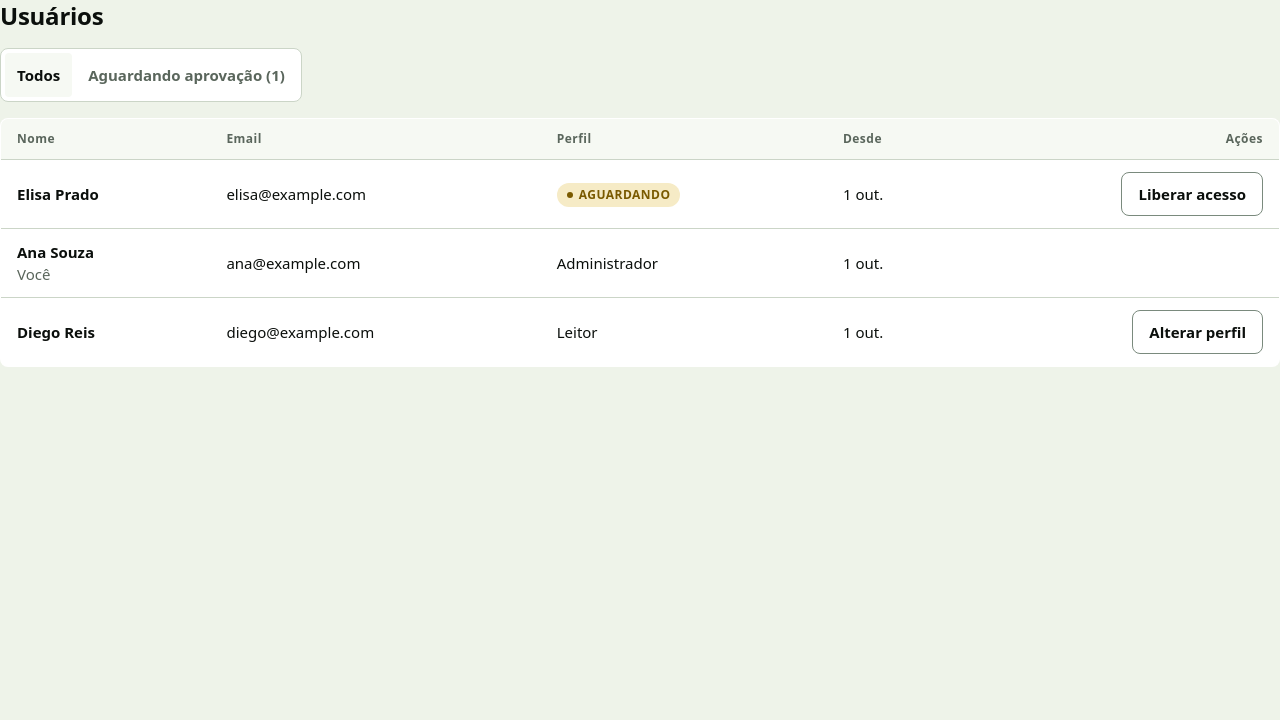
Scenario: ProfileDialog › describes the three profiles and keeps Salvar disabled until the choice changes
Click the button with aria-label "Alterar perfil de Diego Reis" at point(1198, 332), box [1132,310,1263,354]
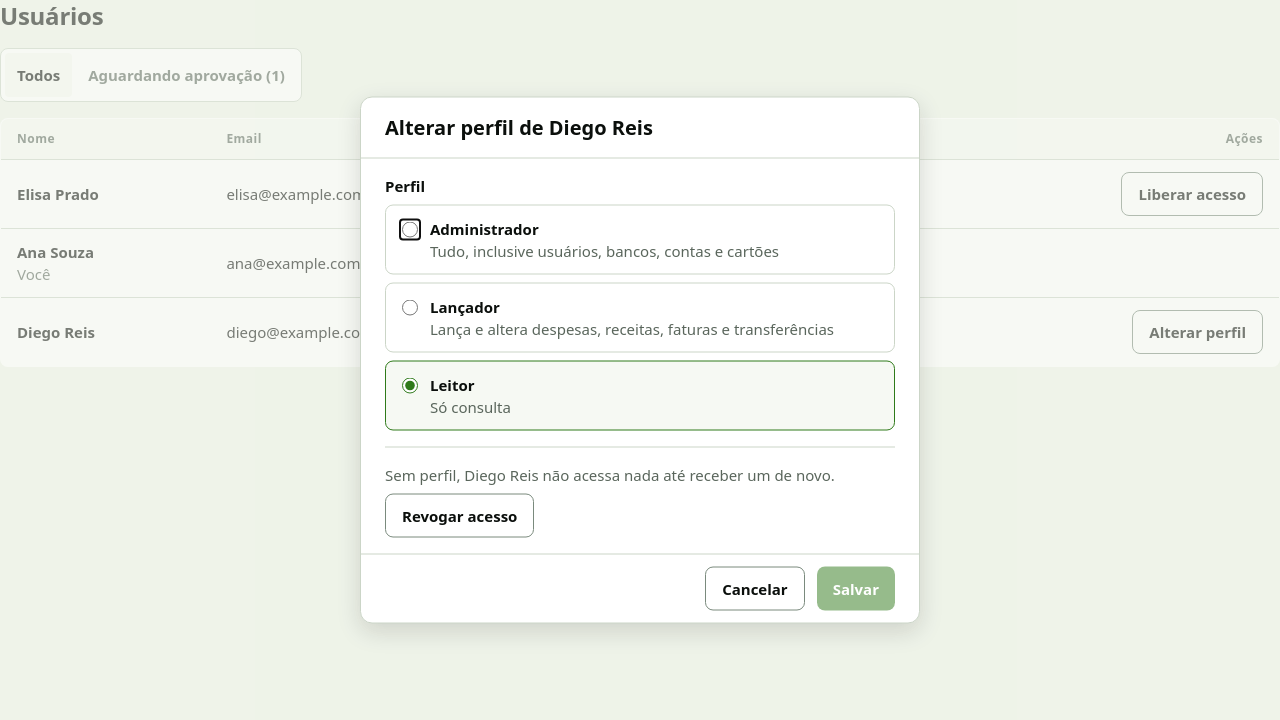
Expected: the radio button labelled "Leitor Só consulta" is checked, [402,378,418,394]
Expected: the button "Salvar" is disabled, [817,566,895,610]
Click the radio button labelled "Administrador" at point(410, 230), box [402,222,418,238]
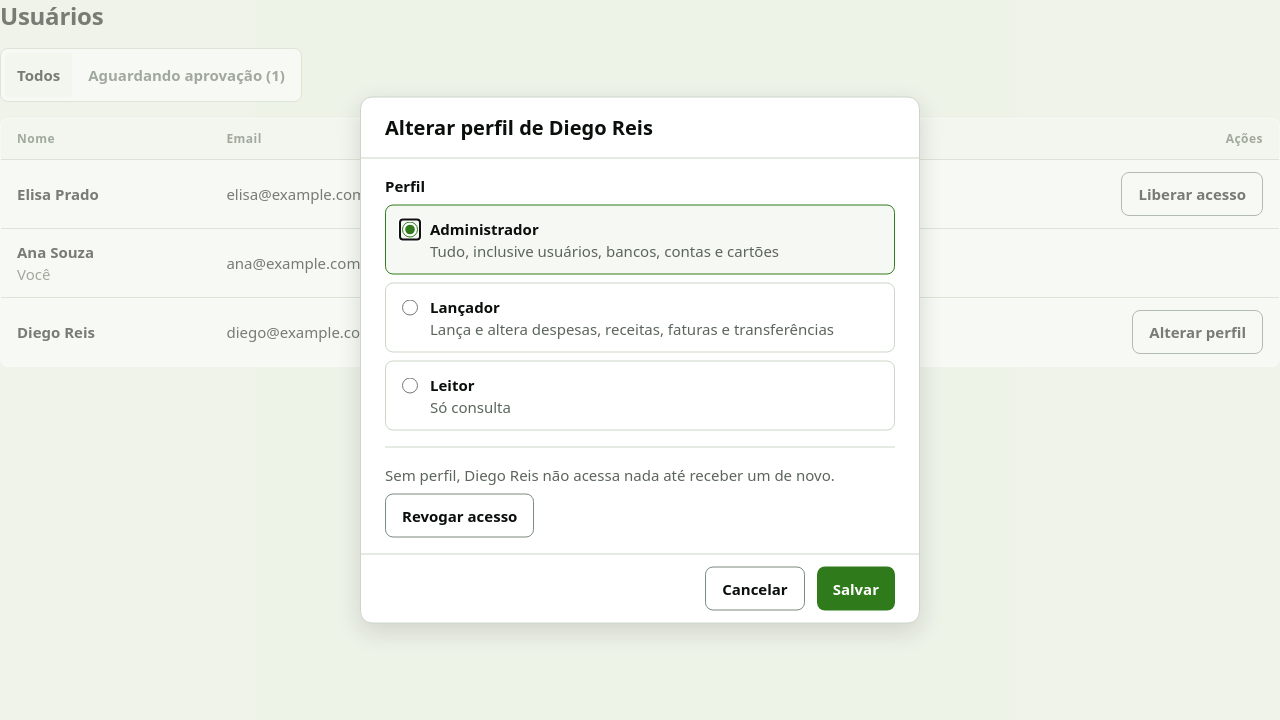
Expected: the button "Salvar" is enabled, [817,566,895,610]
Click the radio button labelled "Leitor Só consulta" at point(410, 386), box [402,378,418,394]
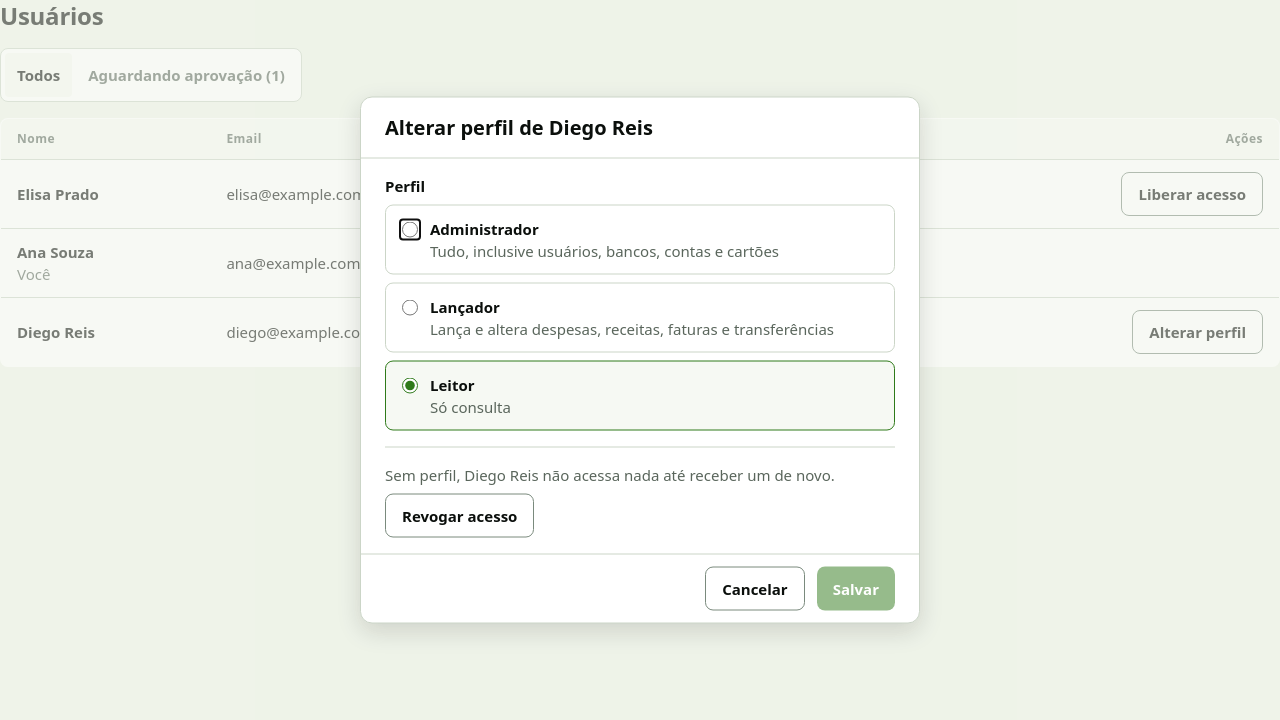
Expected: the button "Salvar" is disabled, [817,566,895,610]
Click the button "Cancelar" at point(755, 588), box [705,566,805,610]
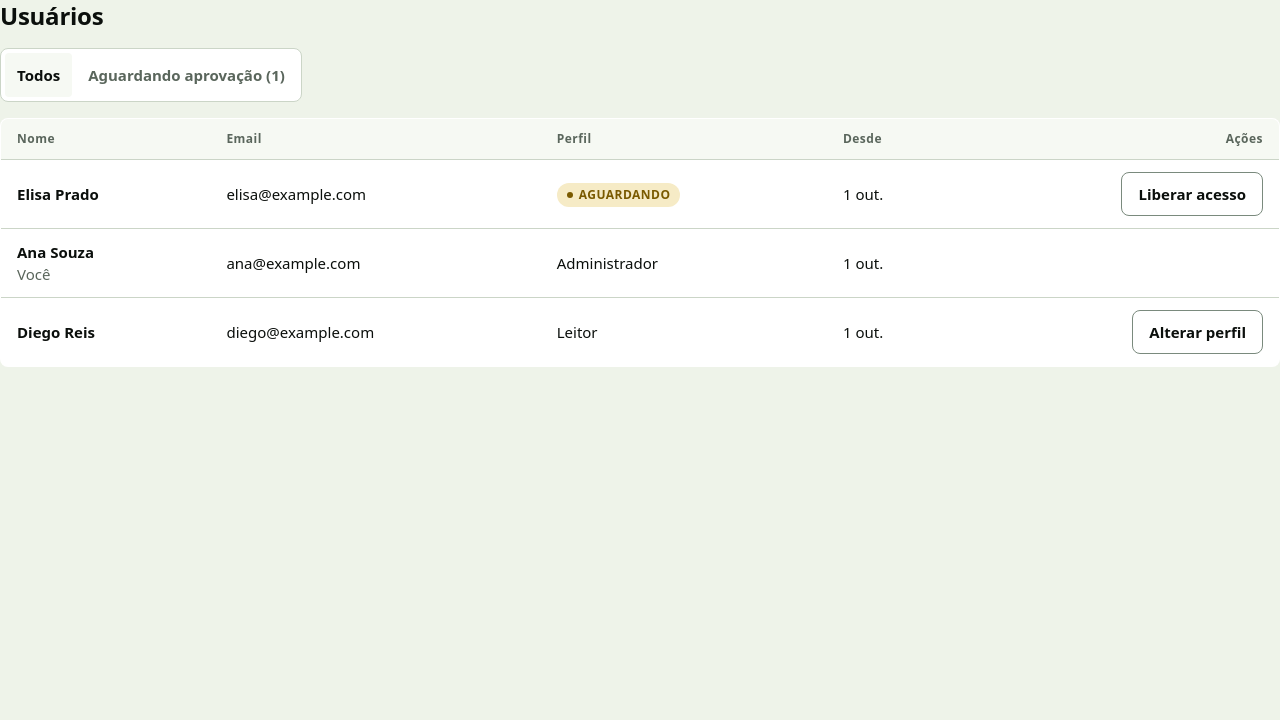
Expected: the dialog is gone
